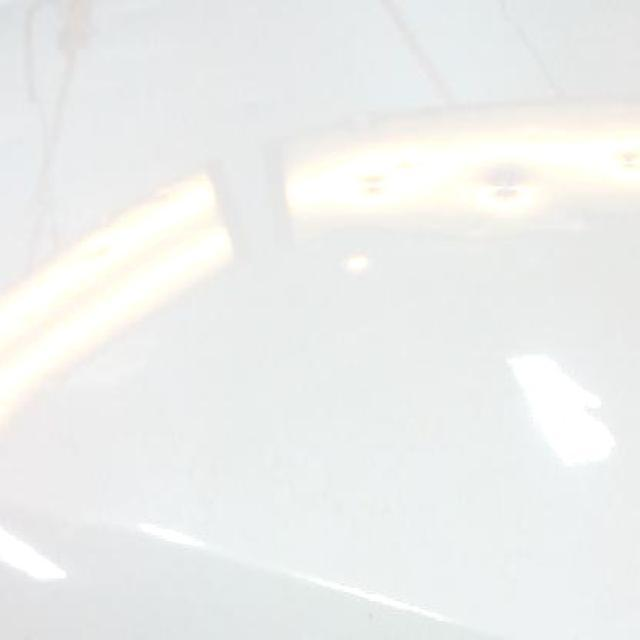dent: (483, 166, 529, 200), (357, 177, 385, 200), (344, 250, 372, 270), (617, 148, 640, 170)
